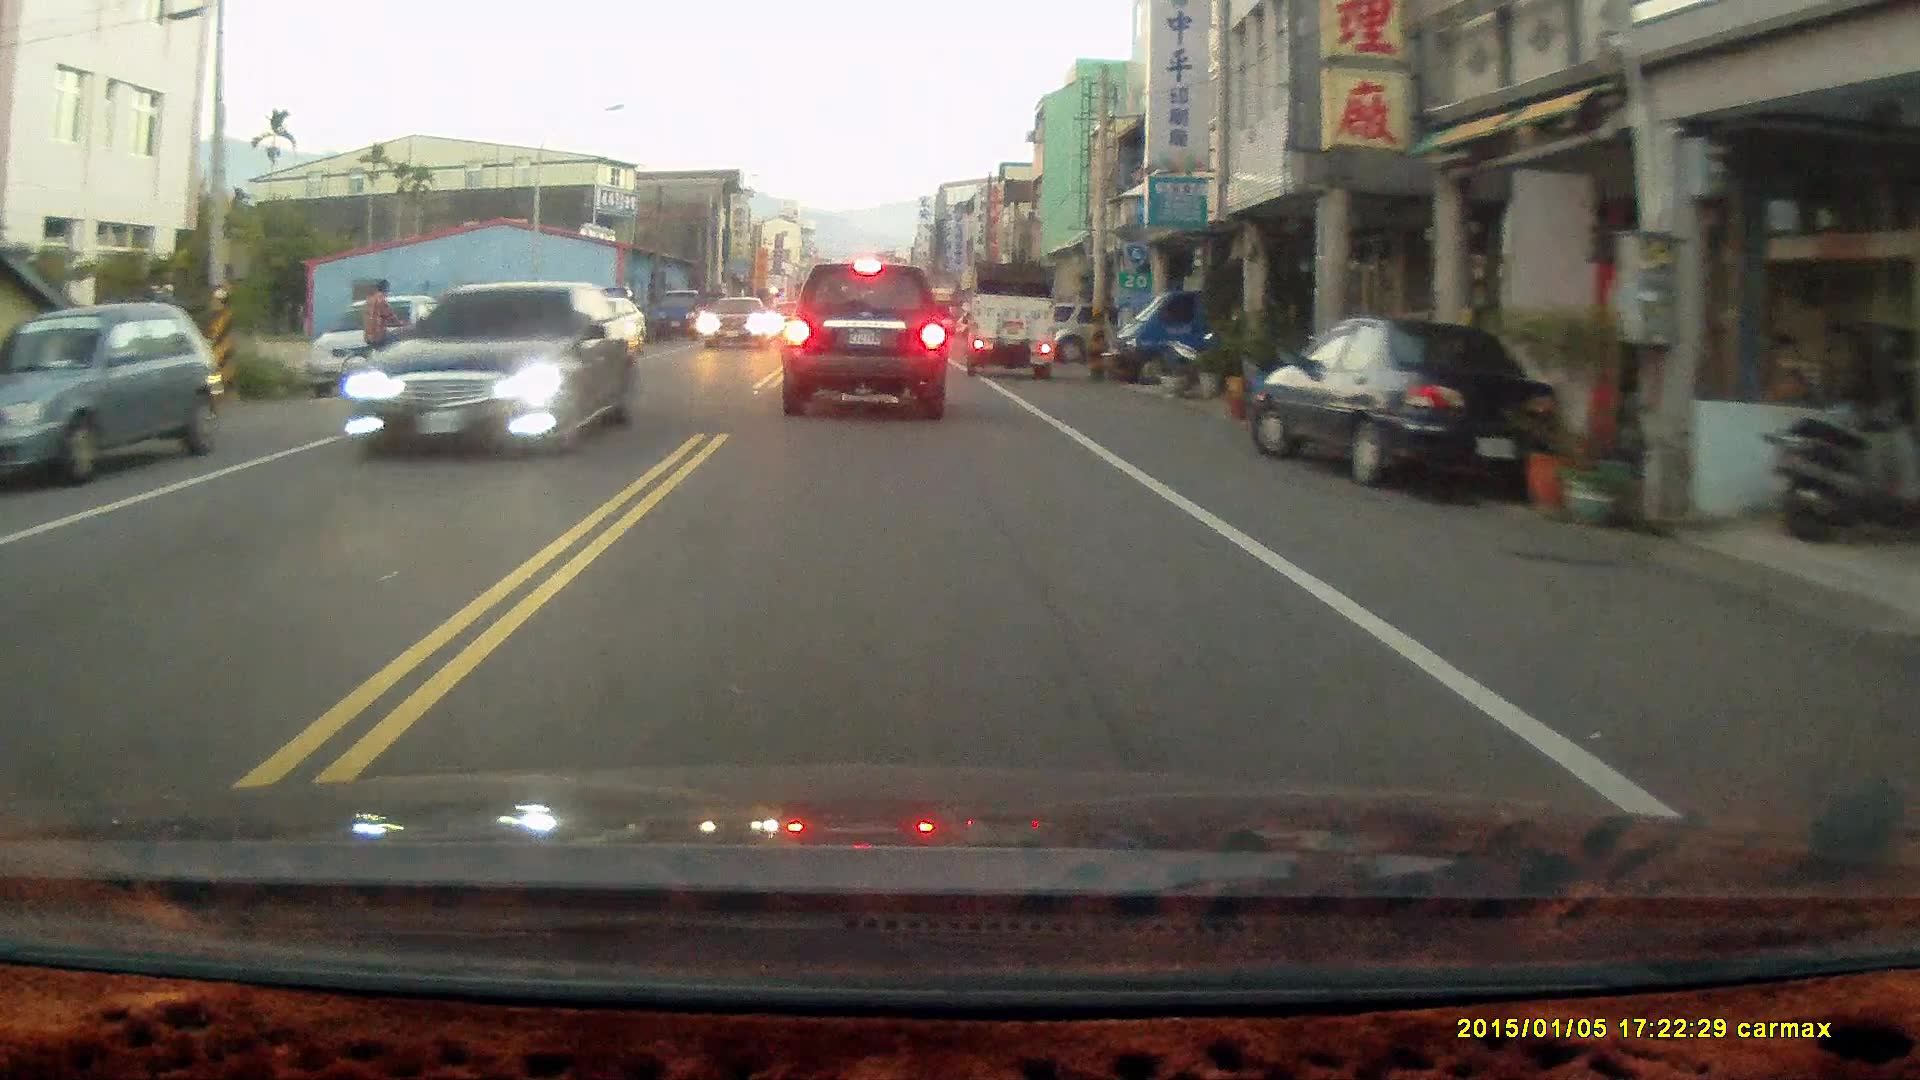rider: (336, 275, 424, 399)
vehicle: (1246, 315, 1563, 492), (333, 283, 651, 458), (1, 306, 221, 483), (784, 261, 949, 419), (302, 295, 481, 399), (1102, 270, 1251, 383), (963, 257, 1059, 375), (553, 292, 648, 359), (703, 297, 777, 348), (652, 286, 705, 338)
